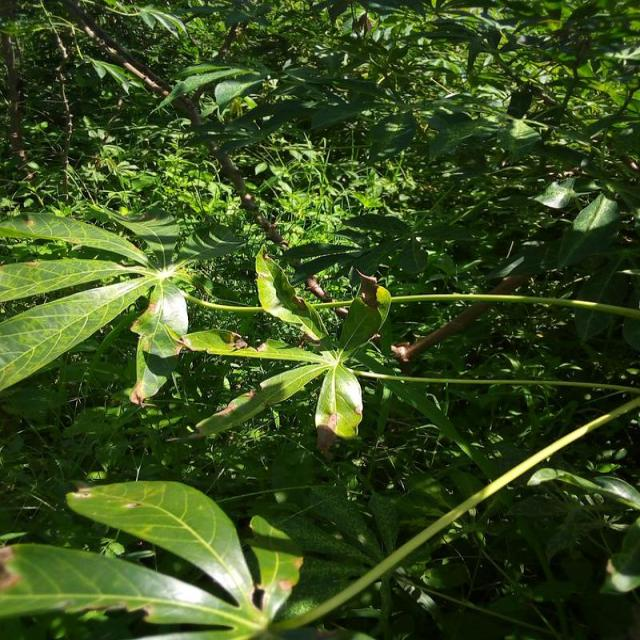cassava leaf: (314, 356, 363, 443)
